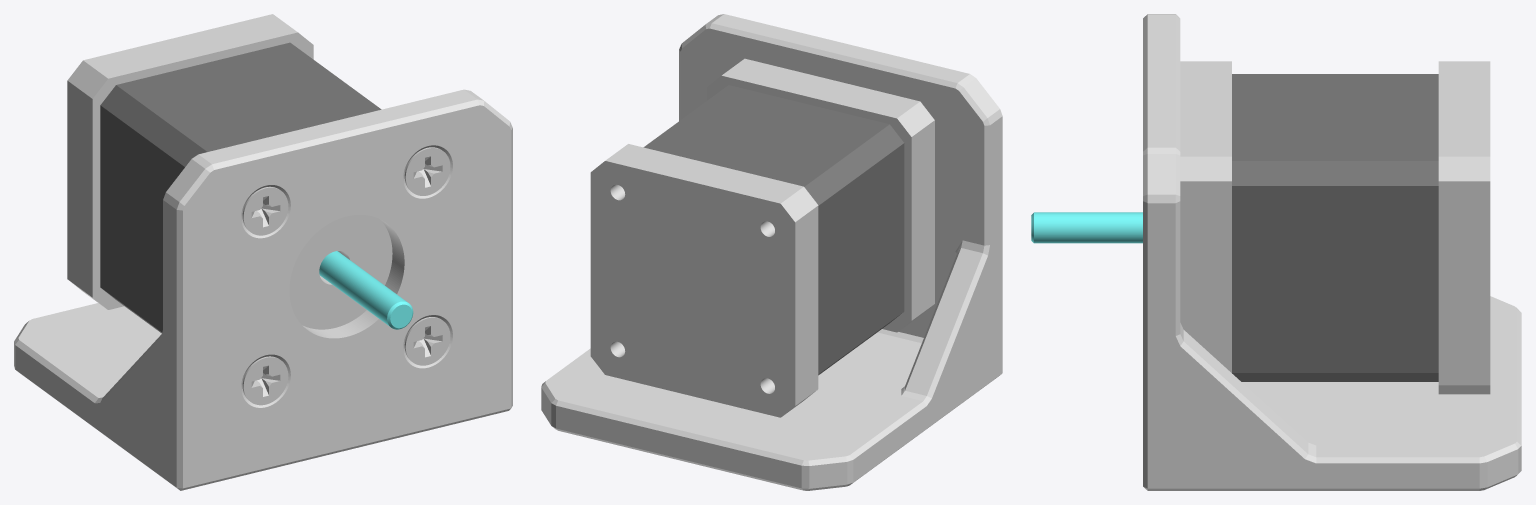
The picture shows the model from 3 angles, left to right: view 1: azimuth 30°, elevation 25°; view 2: azimuth 150°, elevation 25°; view 3: azimuth 270°, elevation 25°; orthographic projection. The views are drawn at different scales.
Visible parts, largest first — view 1: out.mount, out.stepper.stator, out.stepper.botcap, out.stepper.topcap, out.stepper.shaft, out.screw_000, out.screw_001, out.screw_003, out.screw_002; view 2: out.mount, out.stepper.botcap, out.stepper.stator, out.stepper.topcap; view 3: out.stepper.stator, out.mount, out.stepper.botcap, out.stepper.topcap, out.stepper.shaft.
Part boxes in pixels (x1,y1,x2,y2): out.mount: (14,89,512,490); out.stepper.stator: (100,42,381,333); out.stepper.botcap: (67,14,313,309); out.stepper.topcap: (289,215,392,329); out.stepper.shaft: (319,251,413,329); out.screw_000: (404,147,450,195); out.screw_001: (242,186,288,235); out.screw_003: (242,356,288,405); out.screw_002: (404,317,450,365); out.mount: (541,14,1002,490); out.stepper.botcap: (590,144,818,417); out.stepper.stator: (643,85,904,375); out.stepper.topcap: (707,58,934,332); out.stepper.stator: (1232,74,1438,381); out.mount: (1143,14,1521,490); out.stepper.botcap: (1438,61,1490,394); out.stepper.topcap: (1180,61,1231,372); out.stepper.shaft: (1031,212,1142,243).
Size of the model in its own units: 0.0643 by 0.0583 by 0.079.
